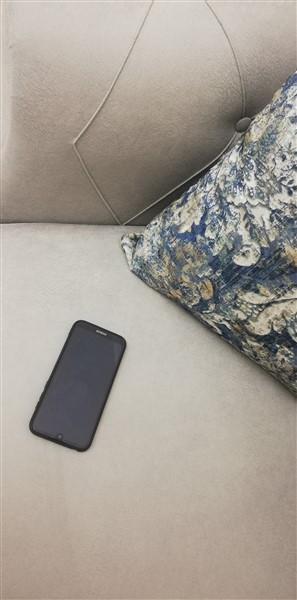telefon: (27, 318, 131, 455)
